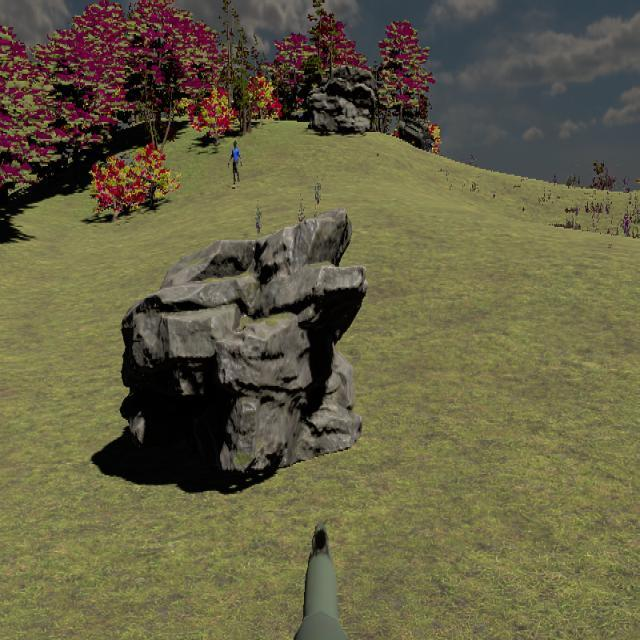Human: (228, 139, 242, 188)
Tank: (398, 113, 436, 152)
